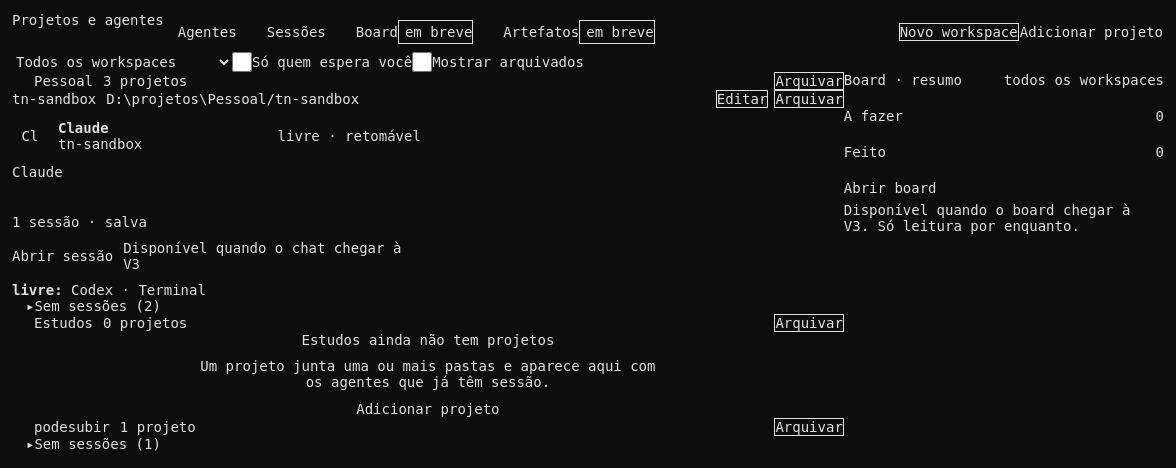
Projetos e agentes: tabs › the Sessões tab says "Nenhuma sessão aqui." for an empty block
The image size is (1176, 468).
Expected: the element named "Workspace Pessoal" is shown, top-left (12, 72), bottom-right (844, 314)
Click the tab "Sessões" at (296, 32), box top-left (253, 12), bottom-right (340, 52)
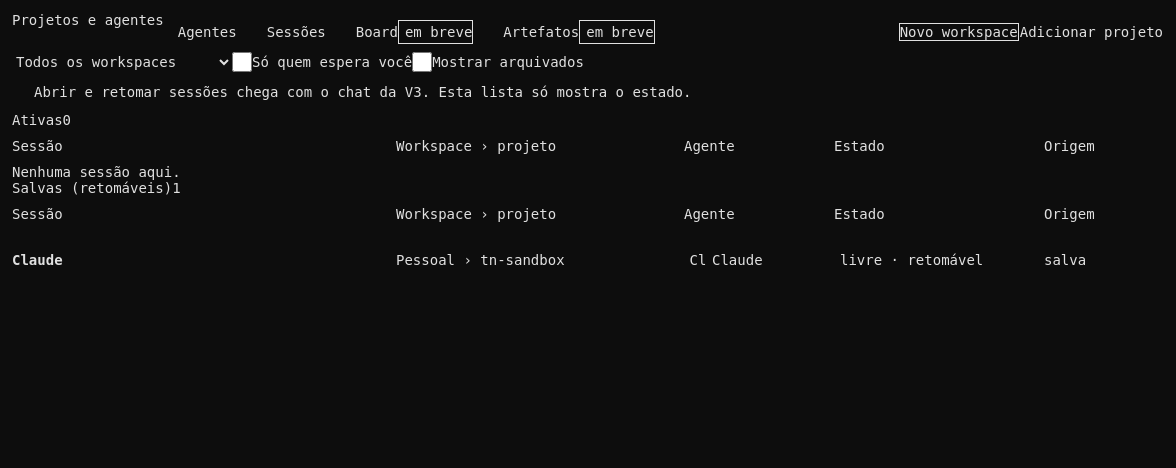
Result: the text "Nenhuma sessão aqui." is shown at top-left (12, 164), bottom-right (181, 180)
